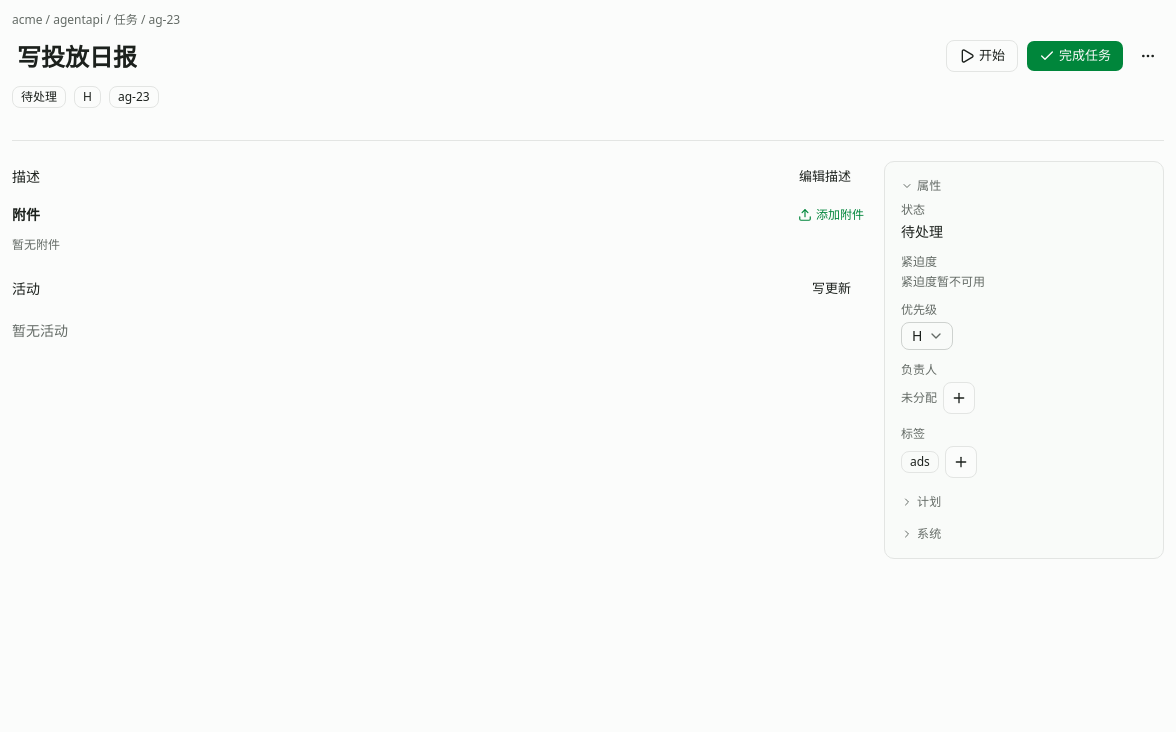
Test case: TaskDetailPage › hides the empty mobile subtask tab, then activates it when the more menu opens the composer
expect the text "写投放日报" is shown: met, box [17, 41, 137, 73]
expect the tab "子任务" is not shown: met
What coordinates should you click on to do the following:
click the button named "更多操作 ag-23"
I would click on:
 (1148, 56)
Its box is [1132, 40, 1164, 72].
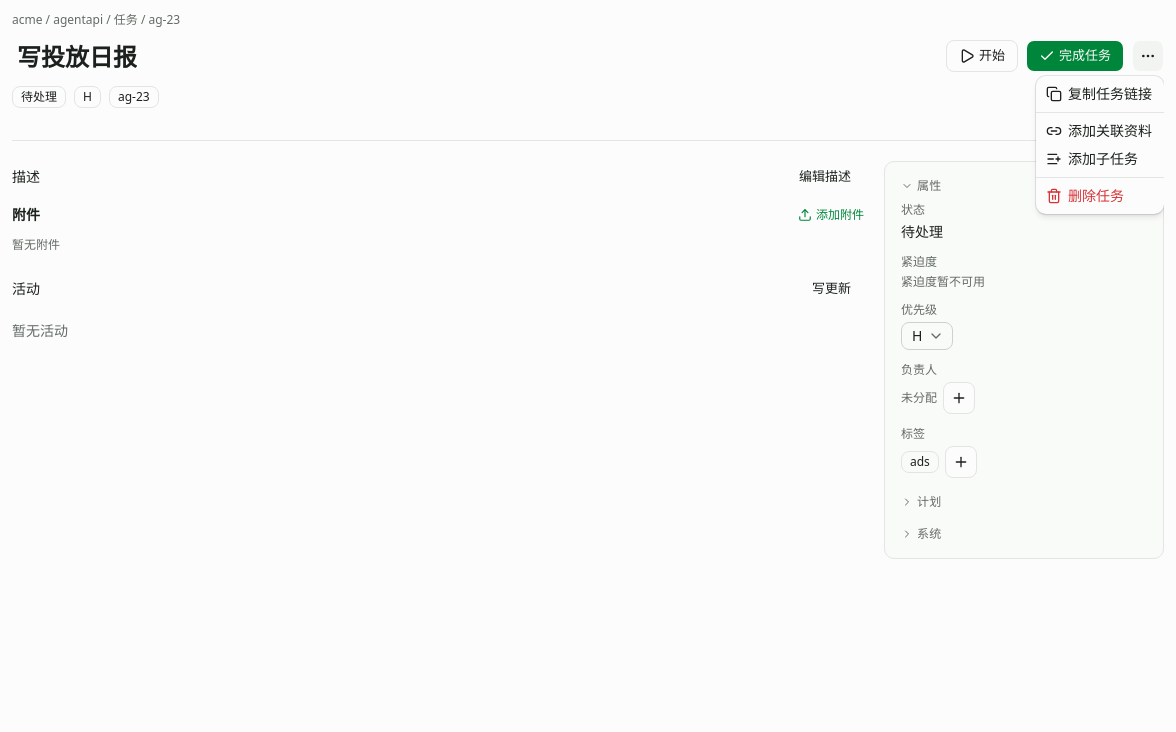
What coordinates should you click on to do the following:
click the menu item "添加子任务"
I would click on:
 (1092, 158)
Its box is [1046, 149, 1138, 168].
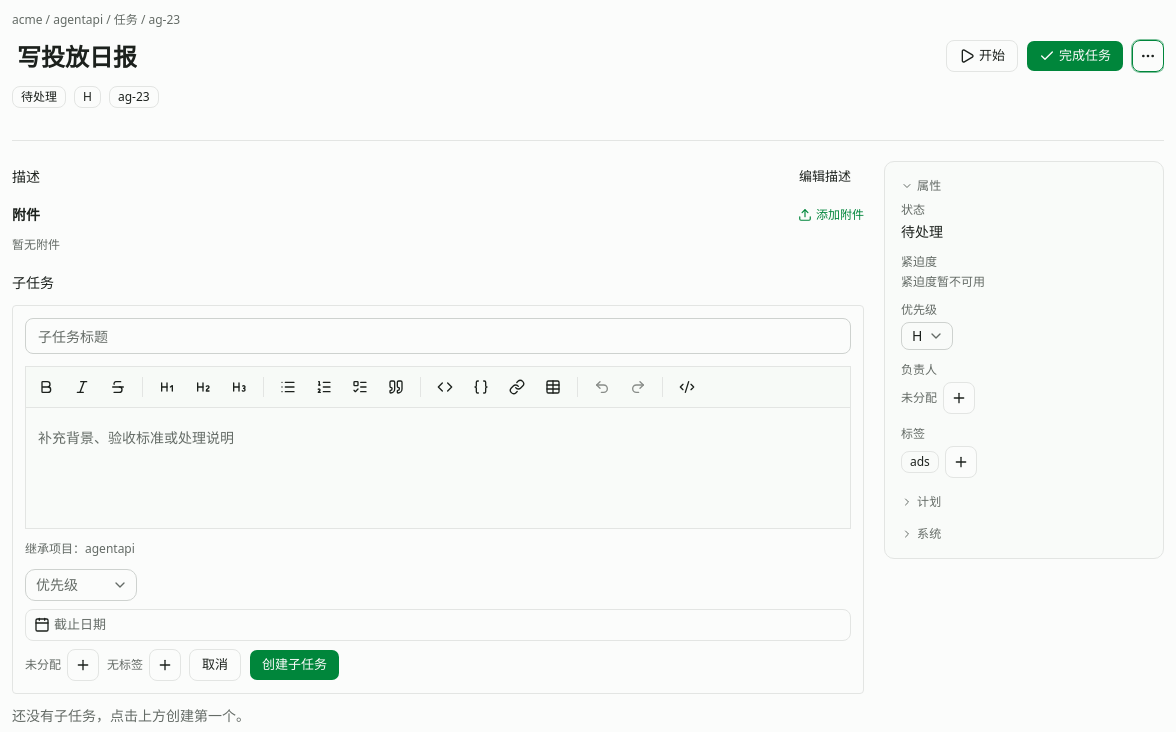
expect the field labelled "子任务标题" is shown: met, box [25, 318, 851, 354]
What coordinates should you click on to do the following:
click the button "取消"
I would click on:
 (215, 665)
Its box is [189, 649, 241, 681].
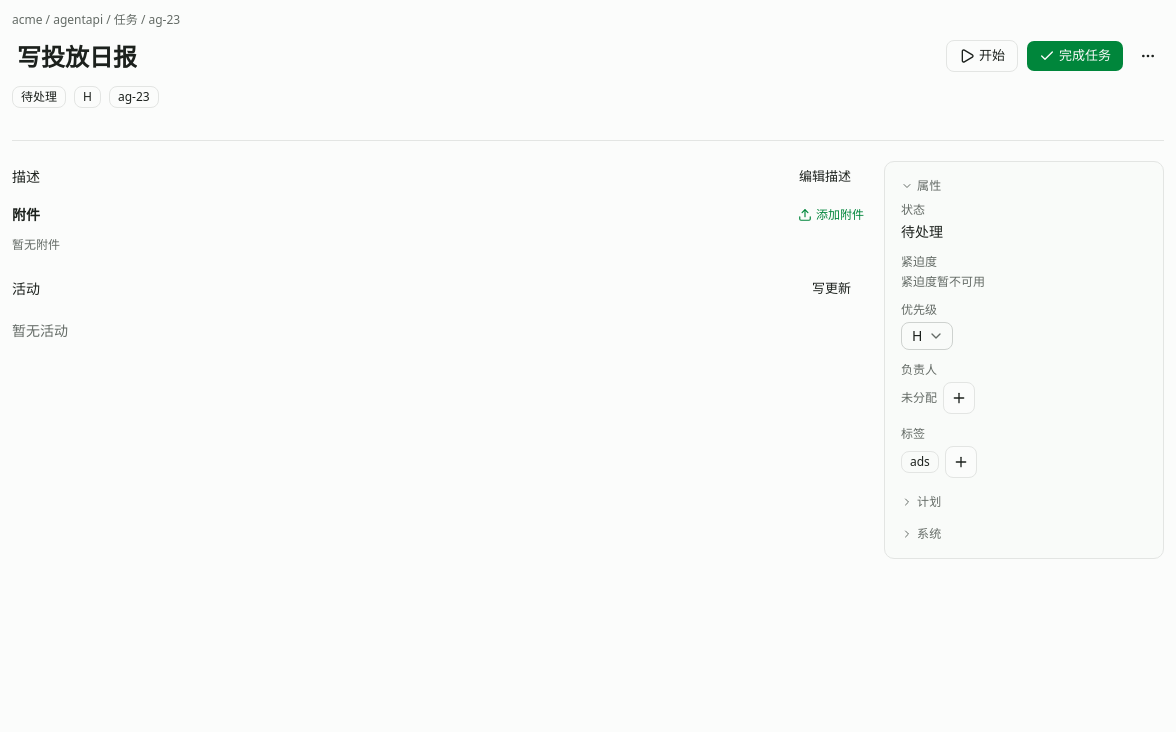
expect the heading "子任务" is gone: met
